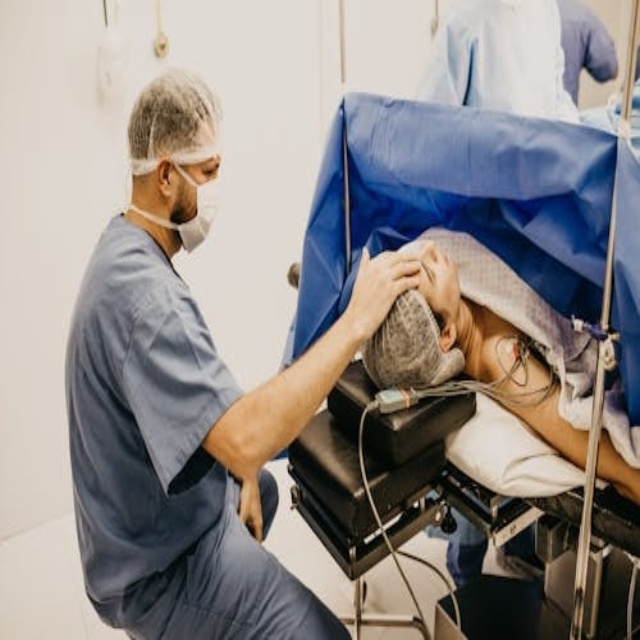Mascara: (172, 165, 221, 263)
Sin_gafas: (421, 262, 435, 284), (203, 163, 219, 176)
Sin_guantes: (341, 241, 425, 347), (236, 472, 265, 544)
